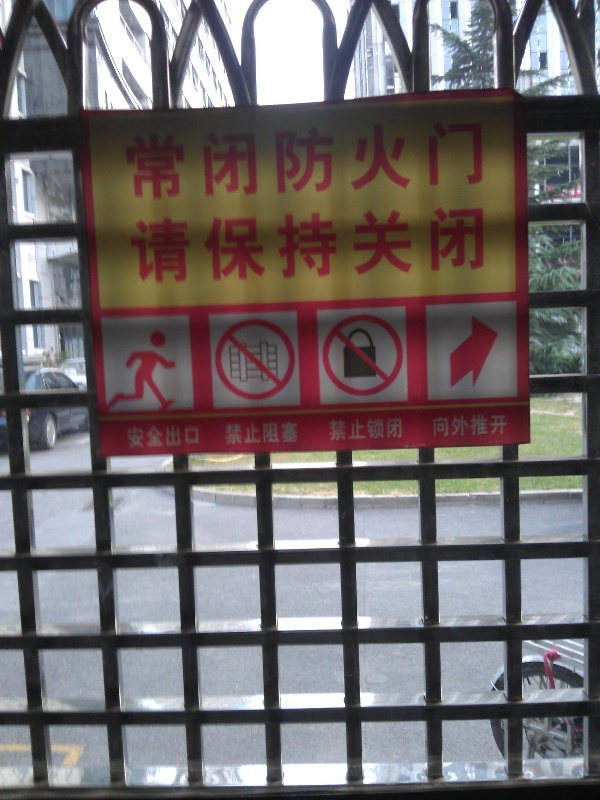text: (145, 198, 160, 294), (161, 198, 176, 294), (177, 198, 192, 294), (193, 198, 208, 294), (209, 198, 224, 294), (225, 198, 240, 294), (241, 198, 256, 294), (257, 198, 272, 294), (273, 198, 288, 294), (289, 198, 304, 294), (305, 198, 320, 294), (321, 198, 336, 294), (337, 198, 352, 294), (353, 198, 368, 294), (369, 198, 384, 294), (385, 198, 400, 294), (401, 198, 416, 294), (417, 198, 432, 294), (433, 198, 448, 294), (449, 198, 464, 294), (465, 198, 480, 294), (129, 114, 144, 204), (145, 114, 160, 204), (161, 114, 176, 204), (177, 114, 192, 204), (193, 114, 208, 204), (209, 114, 224, 204), (225, 114, 240, 204), (241, 114, 256, 204), (257, 114, 272, 204), (273, 114, 288, 204), (289, 114, 304, 204), (305, 114, 320, 204), (321, 114, 336, 204), (337, 114, 352, 204), (353, 114, 368, 204), (369, 114, 384, 204), (385, 114, 400, 204), (401, 114, 416, 204), (417, 114, 432, 204), (433, 114, 448, 204), (449, 114, 464, 204), (465, 114, 480, 204), (131, 198, 144, 294), (481, 198, 492, 294), (119, 114, 128, 204), (481, 114, 488, 204), (225, 418, 240, 449), (241, 418, 256, 449), (257, 418, 272, 449), (273, 418, 288, 449), (129, 421, 144, 451), (145, 421, 160, 451), (161, 421, 176, 451), (177, 421, 192, 451), (337, 416, 352, 444), (353, 416, 368, 444), (369, 416, 384, 444), (385, 416, 400, 444), (289, 418, 302, 449), (433, 413, 448, 438), (449, 413, 464, 438), (465, 413, 480, 438), (481, 413, 496, 438), (497, 413, 509, 438), (119, 421, 128, 451), (193, 421, 202, 451), (327, 416, 336, 444), (401, 416, 405, 444), (429, 413, 432, 438), (222, 418, 224, 449)
